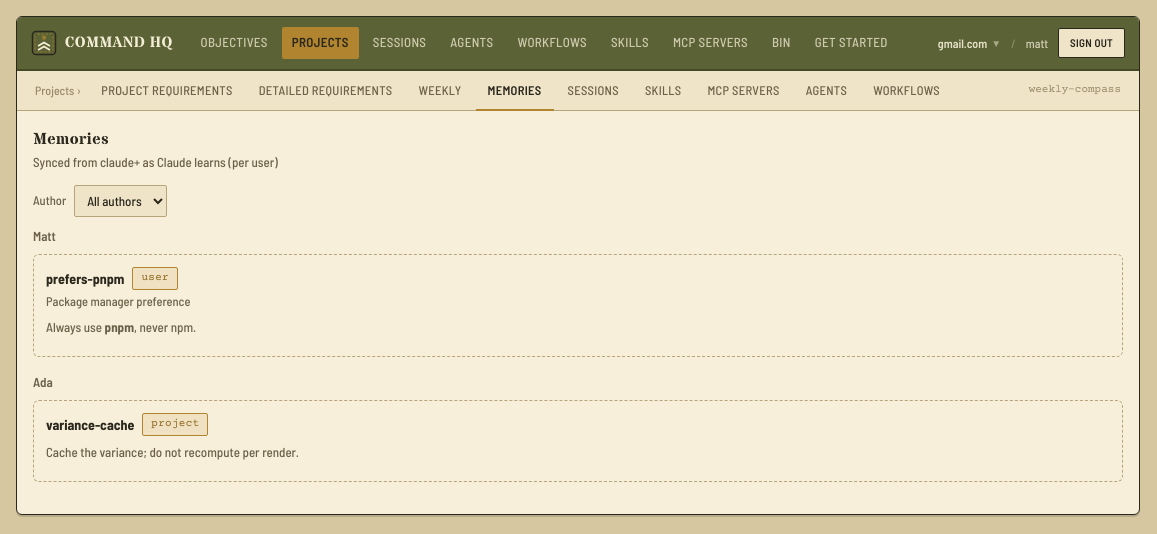
Test: ProjectMemories — per-user memories tab › filters to a single author when more than one is present
Check: the element with test id "memory-group-user-ada" is shown, box x1=33 y1=373 x2=1123 y2=482
Select "Matt" in the dropdown labelled "Author" at (121, 201), box x1=74 y1=185 x2=167 y2=217
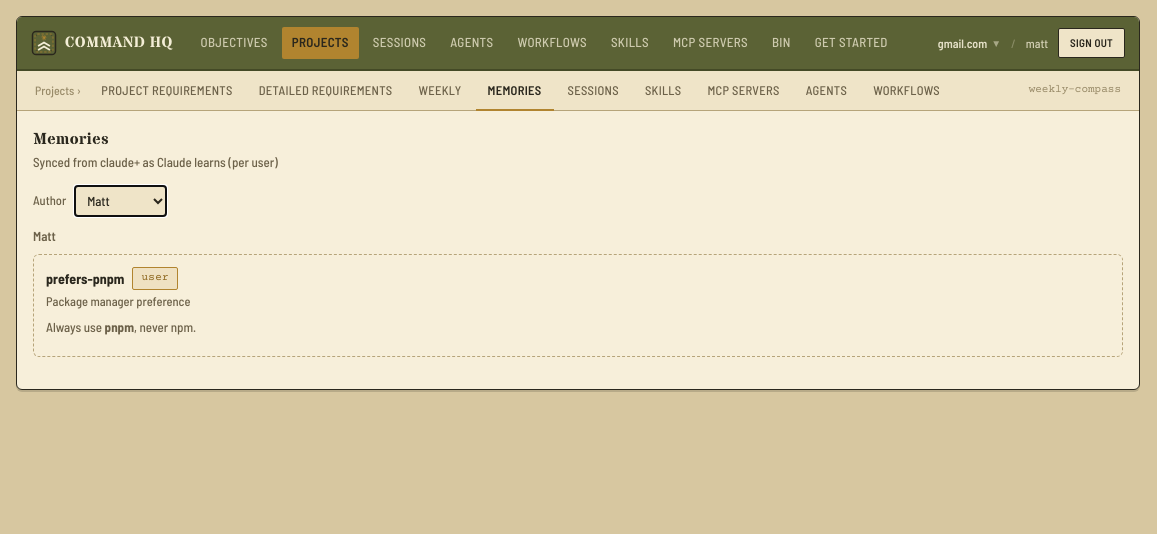
Check: the element with test id "memory-group-user-matt" is shown, box x1=33 y1=227 x2=1123 y2=357
Check: the element with test id "memory-group-user-ada" is gone
